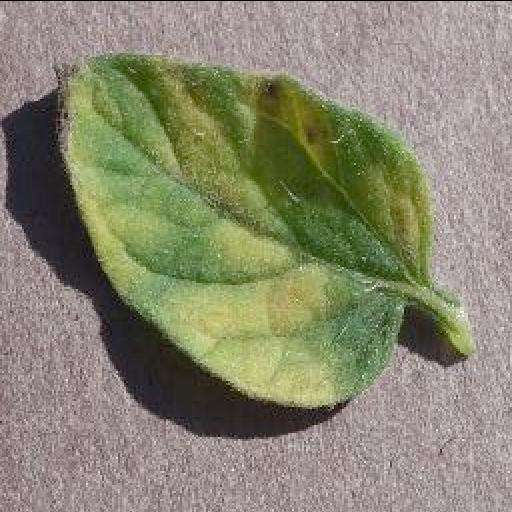disease_tomato: (60, 53, 430, 405)
